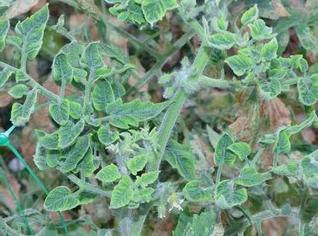Tomato leaf yellow virus: (209, 55, 265, 80), (105, 178, 137, 212), (198, 27, 243, 51), (113, 153, 153, 177), (144, 0, 166, 33)
